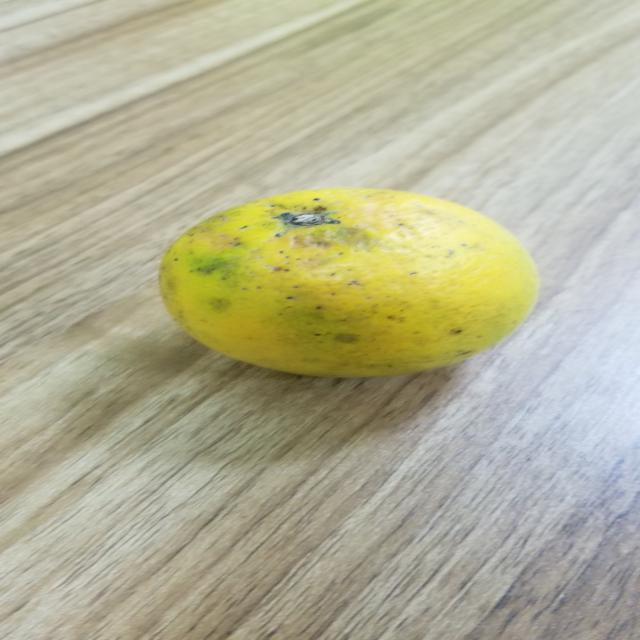Ripe orange: (150, 184, 565, 389)
